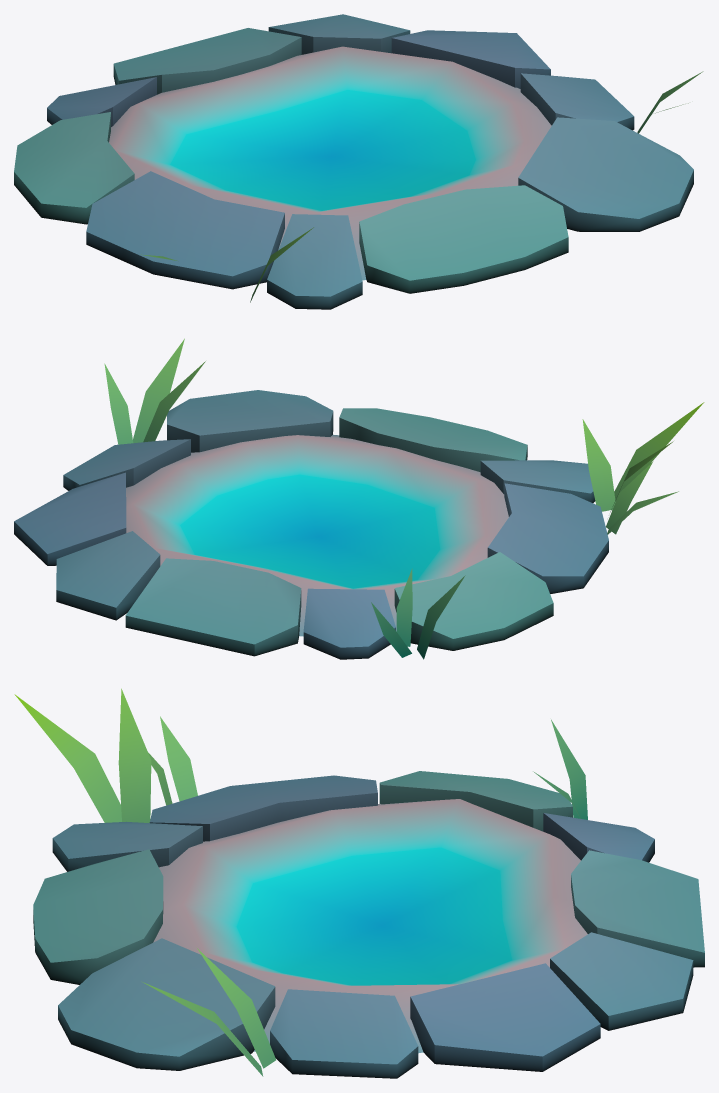
The model's file is obstacle-geysir_H3.glb.
3 views of the same model, one above another, from view 1: azimuth 30°, elevation 25°; view 2: azimuth 150°, elevation 25°; view 3: azimuth 270°, elevation 25° (orthographic). The views are drawn at different scales.
Parts seen in each view (by area): view 1: obstacle-geysir_H3; view 2: obstacle-geysir_H3; view 3: obstacle-geysir_H3.
Part boxes in pixels (x1,y1,x2,y2): obstacle-geysir_H3: (14,14,703,309); obstacle-geysir_H3: (14,338,704,659); obstacle-geysir_H3: (14,688,704,1078).
Bounding box in the file's own units: 3.25 × 0.5263 × 2.96.
